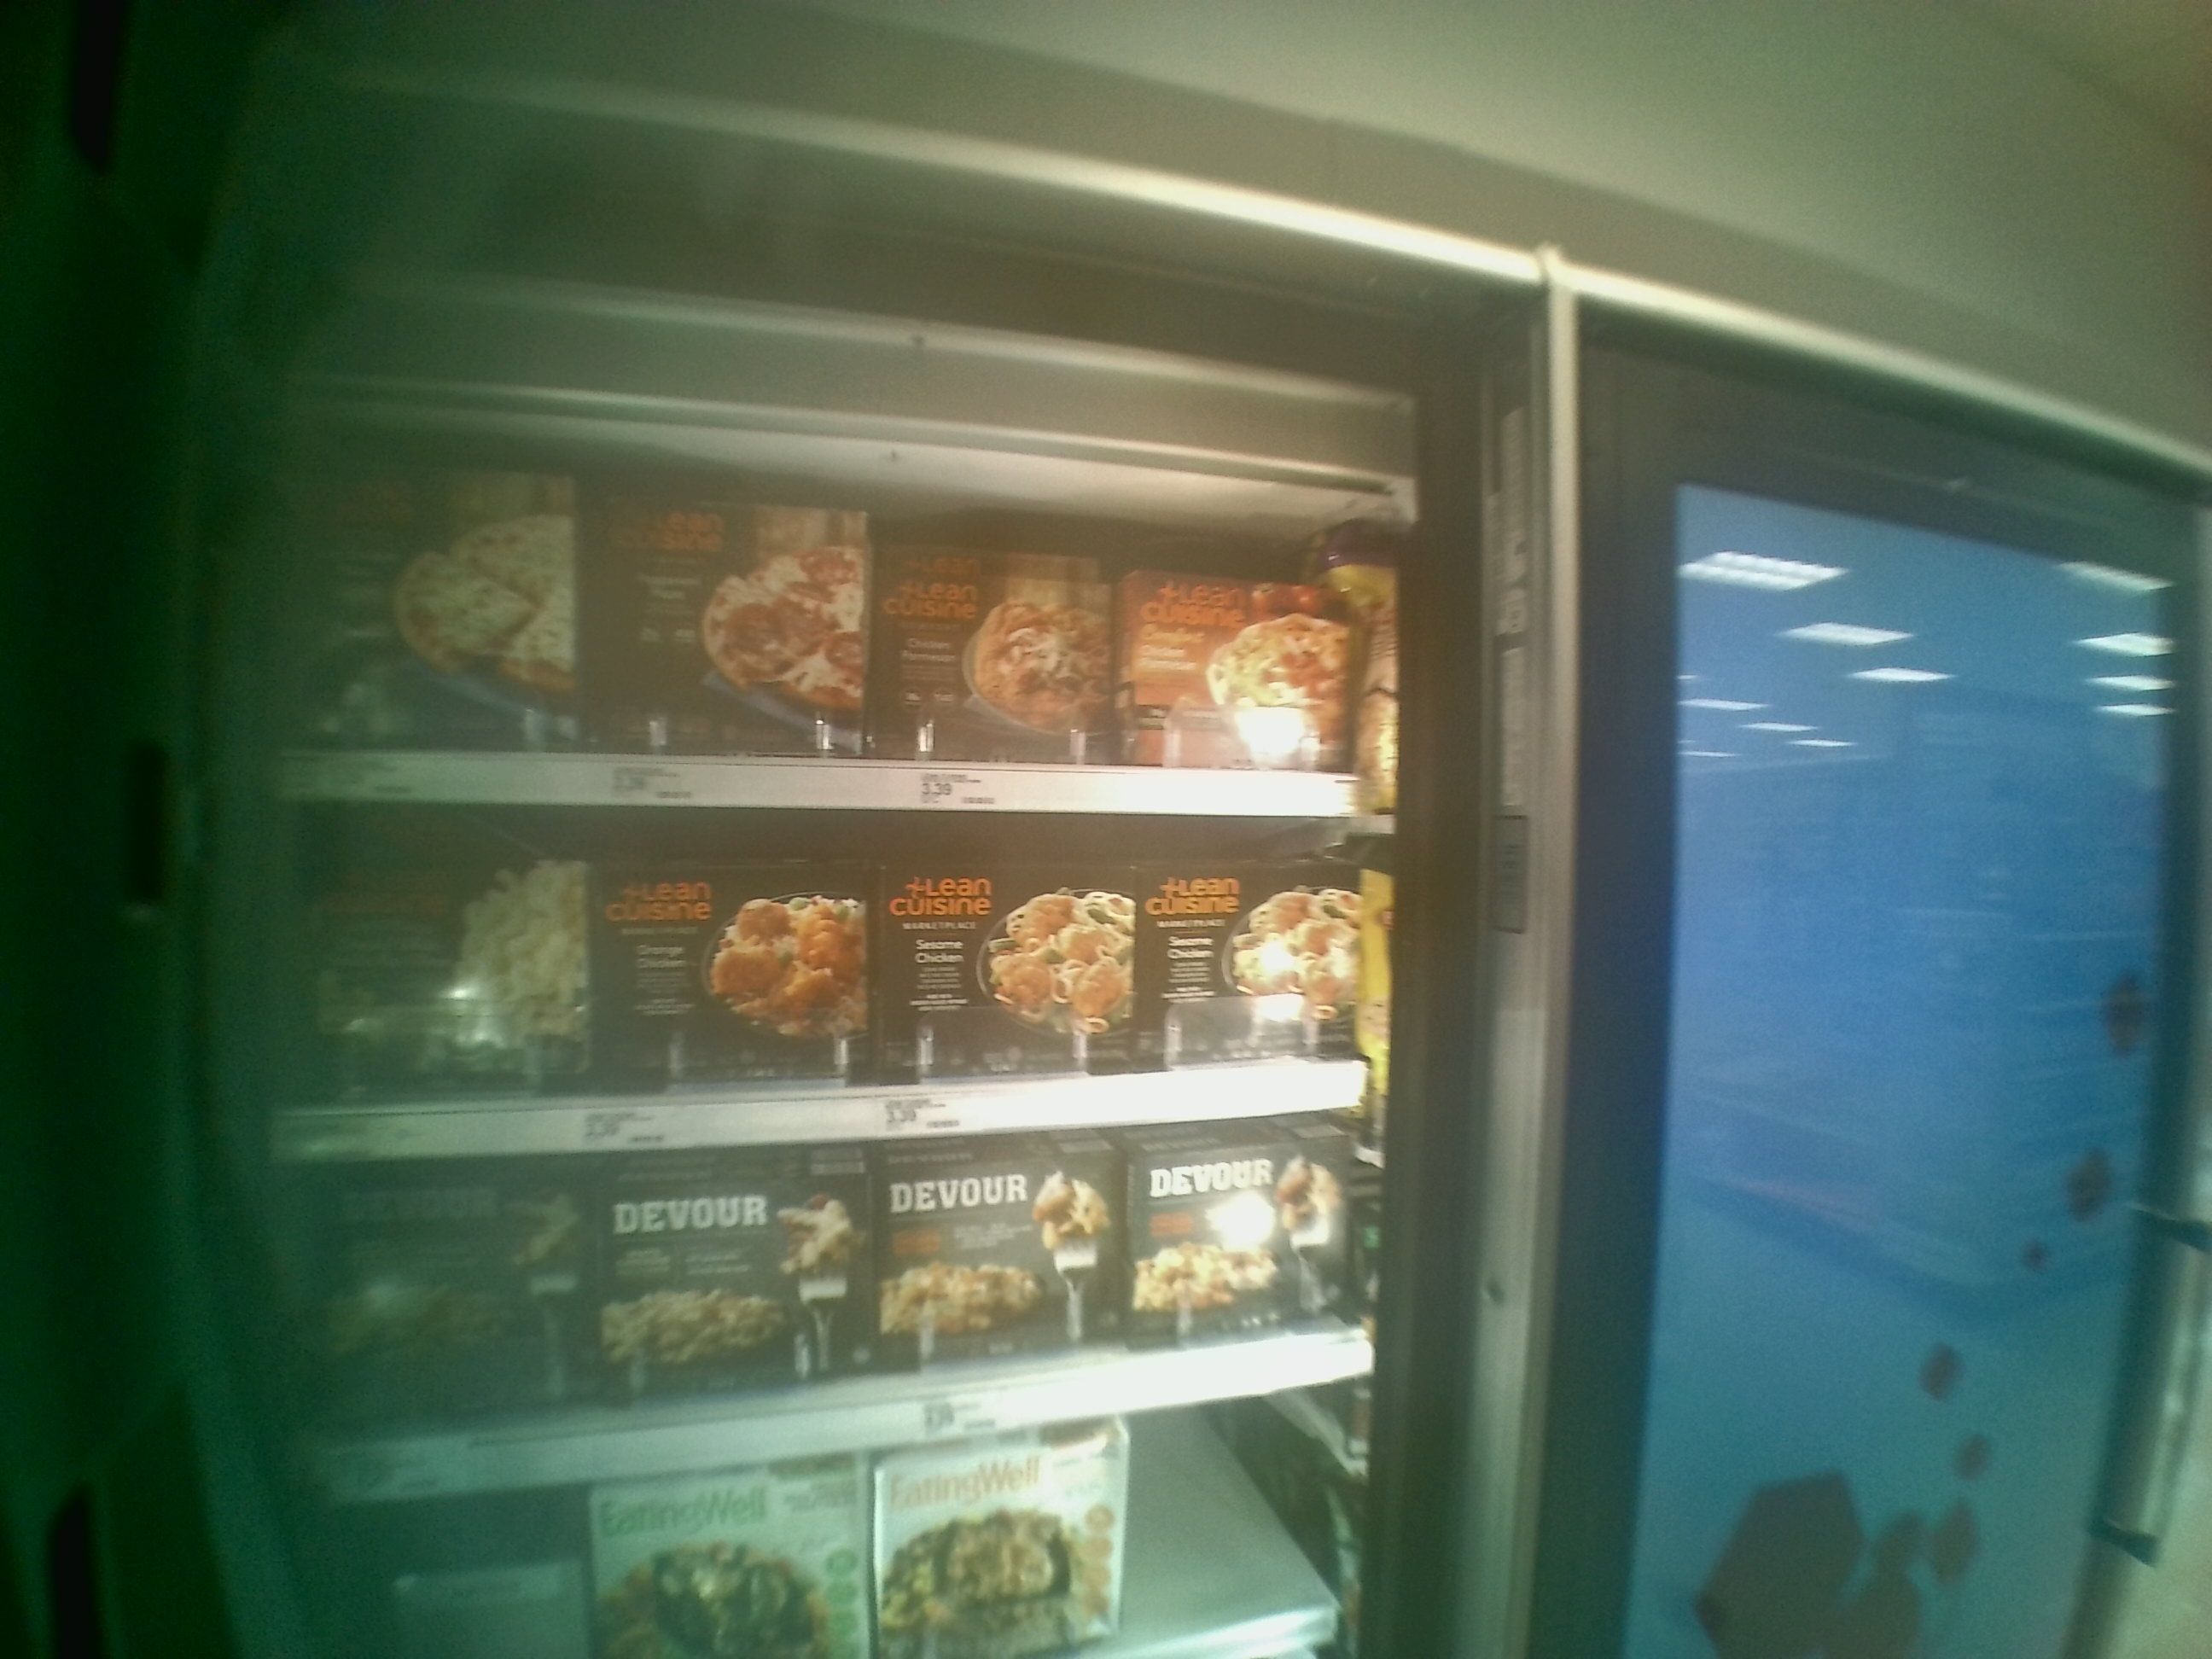shelf: (263, 392, 1404, 814), (261, 1100, 1374, 1520), (258, 798, 1385, 1162)
